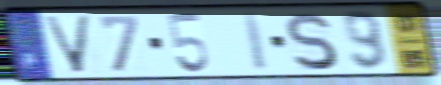5: (165, 11, 210, 75)
7: (97, 12, 142, 75)
9: (341, 8, 390, 73)
I: (241, 10, 271, 74)
S: (282, 10, 340, 73)
V: (40, 14, 95, 75)
